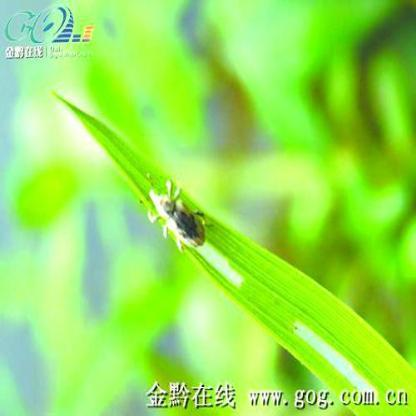rice-bug: (147, 178, 208, 248)
